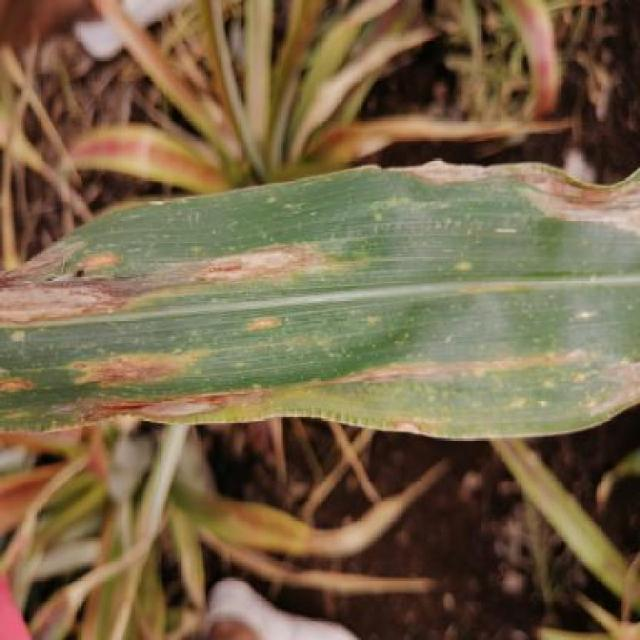Corn_Leaf_Blight: (0, 162, 640, 443)
